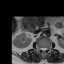CCS_normal: (42, 45, 44, 54)
LFS_stenosis: (46, 45, 48, 51)
LLS_normal: (44, 45, 46, 52)
RFS_normal: (38, 45, 40, 52)
RLS_normal: (40, 45, 42, 52)
